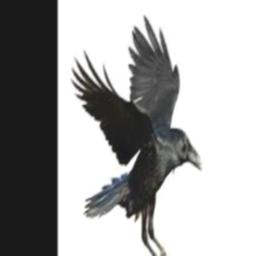Crow: (71, 16, 201, 256)
